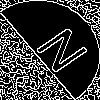N: (25, 25, 91, 82)
